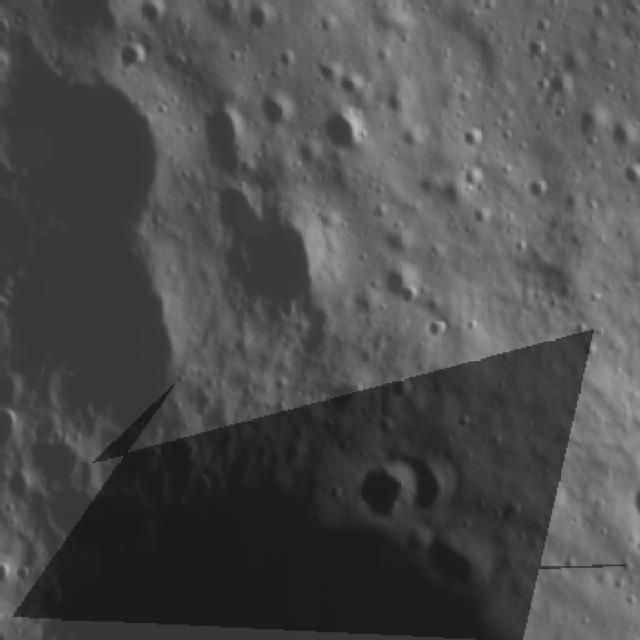crater: (353, 462, 413, 522), (428, 536, 492, 590), (408, 453, 455, 516), (119, 34, 155, 72), (267, 88, 298, 128), (338, 119, 376, 150), (392, 372, 416, 406), (378, 404, 400, 441), (525, 172, 546, 210), (245, 6, 270, 36), (312, 52, 338, 79), (426, 312, 452, 336), (346, 76, 377, 96), (624, 157, 640, 194), (337, 425, 354, 452), (460, 128, 480, 148), (470, 167, 487, 190), (468, 205, 490, 220)
